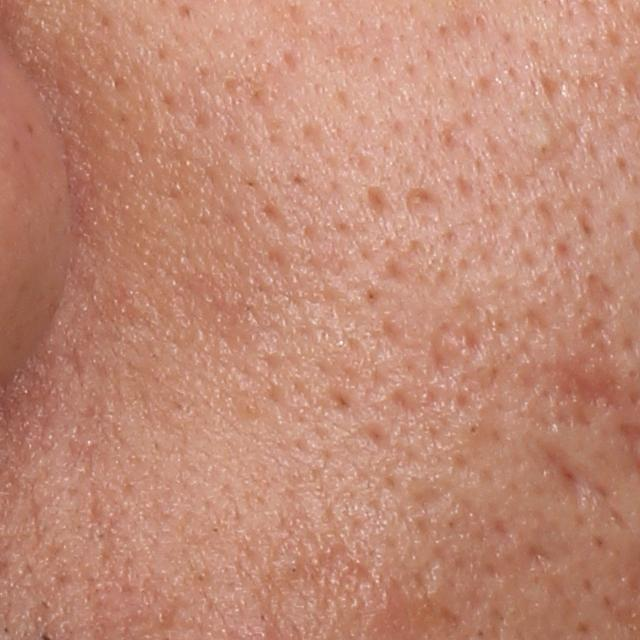atrophic_scar: (365, 268, 522, 413), (534, 435, 622, 513), (400, 190, 445, 230), (587, 272, 617, 316), (409, 481, 455, 508), (364, 184, 399, 218)
